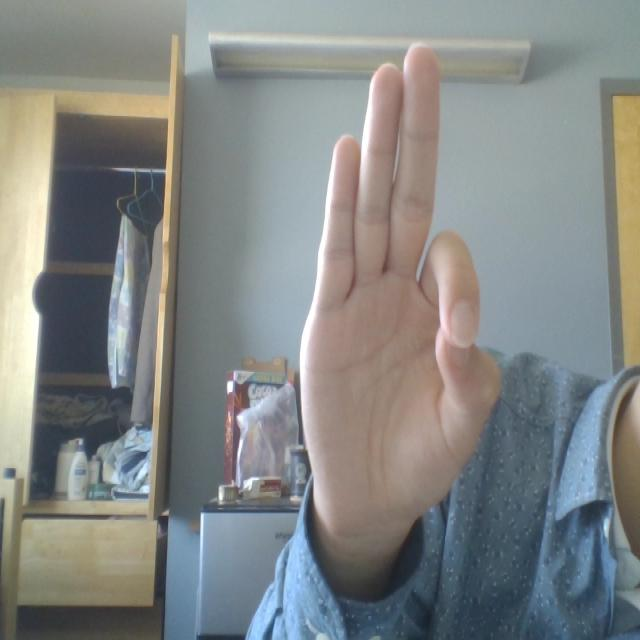F: (309, 20, 516, 589)
